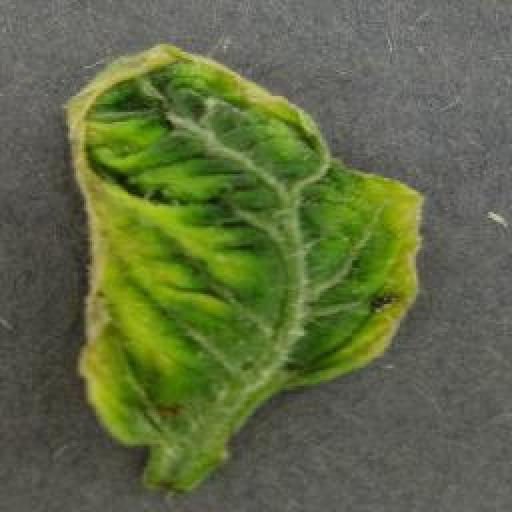disease_tomato: (67, 44, 425, 444)
